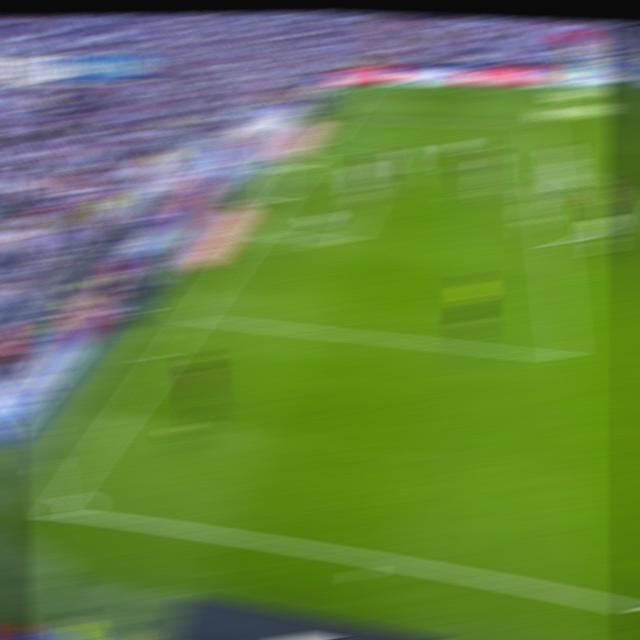bigarea_bottom_inner: (550, 339, 580, 369)
bigarea_top_inner: (376, 149, 398, 159)
bigarea_top_outter: (331, 112, 352, 120)
bottom_arc_area_intersection: (183, 311, 206, 325)
corner: (355, 84, 376, 91)
smallarea_bottom_outter: (244, 224, 268, 240)
smallarea_top_outter: (306, 143, 330, 157)
top_arc_area_intersection: (533, 163, 556, 173)
